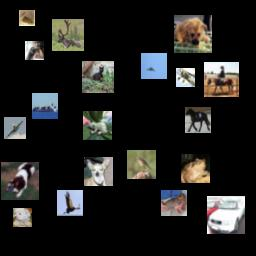airplane: (141, 53, 167, 79), (4, 117, 26, 139), (176, 68, 195, 87)
automobile: (207, 196, 245, 234)
bird: (127, 150, 156, 179), (57, 190, 83, 216)
cat: (82, 61, 114, 93), (161, 190, 187, 216), (25, 41, 44, 60)
deer: (52, 19, 84, 51), (19, 10, 35, 26)
dog: (174, 15, 212, 53), (1, 162, 39, 200), (84, 157, 113, 186), (13, 208, 32, 227)
frog: (181, 154, 210, 183), (83, 111, 112, 140)
ship: (32, 93, 58, 119)
